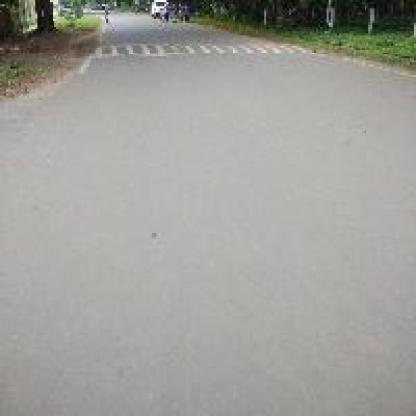Speed Bump: (96, 40, 293, 58)
